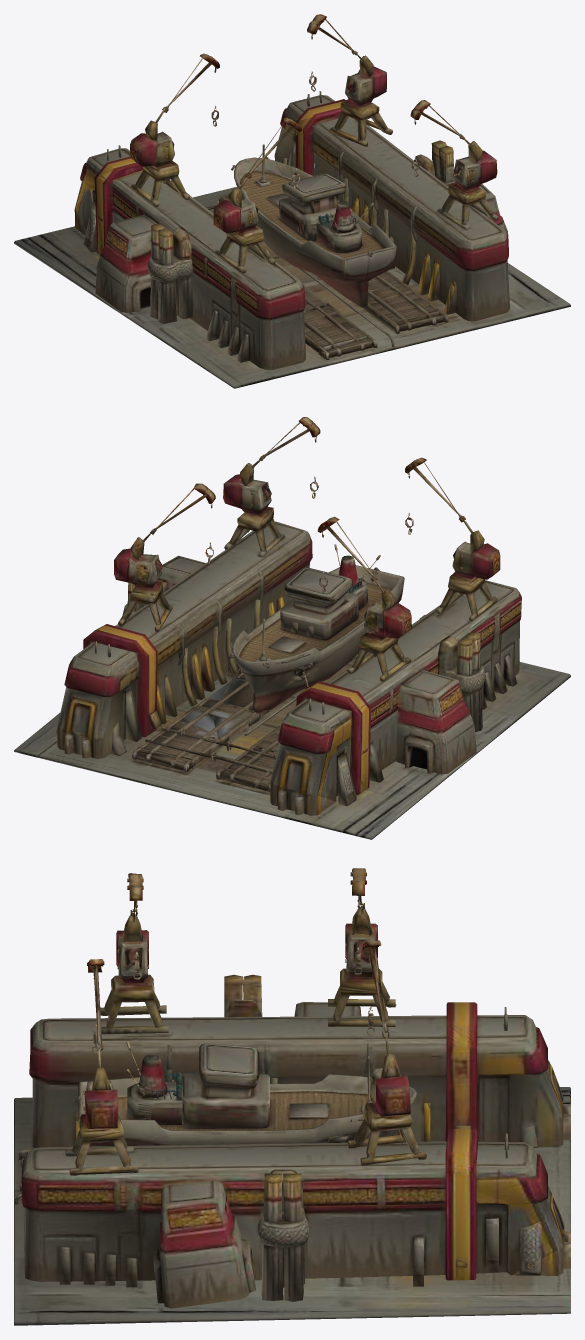
File: gtfc_naval_yard.glb
3 renders of one model, top to bottom at view 1: azimuth 30°, elevation 25°; view 2: azimuth 150°, elevation 25°; view 3: azimuth 270°, elevation 25°, orthographic. The views are drawn at different scales.
Visible parts, largest first — view 1: Body, Trim; view 2: Body, Trim; view 3: Body, Trim.
Boxes of the visible parts, x1,y1,x2,y2 form: Body: (14, 14, 570, 388); Trim: (74, 18, 454, 313); Body: (14, 417, 570, 839); Trim: (59, 467, 414, 814); Body: (14, 868, 570, 1325); Trim: (76, 942, 564, 1280).
Size of the model in its own units: 9.22 by 5.58 by 9.22.
2 materials, 2 textured.
